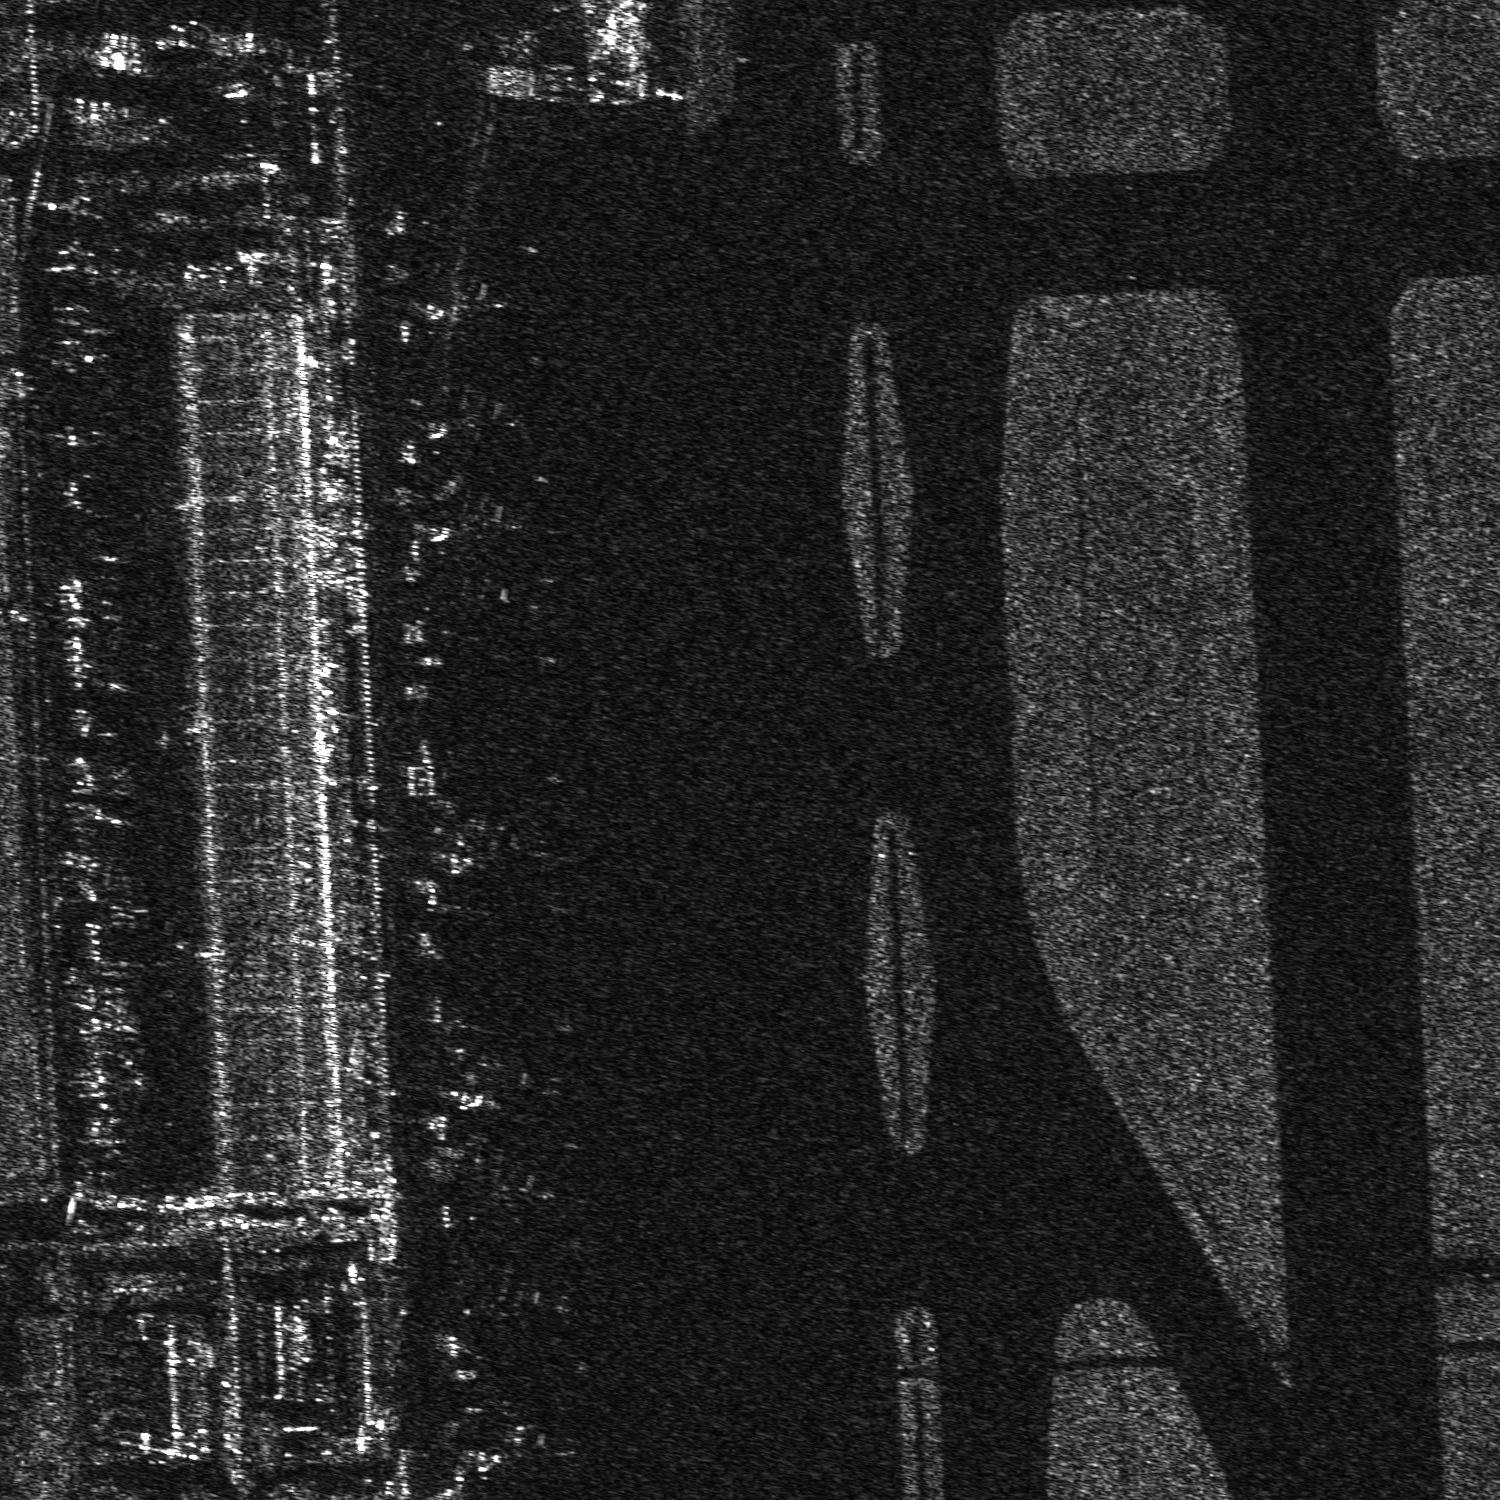A220: (457, 1420, 578, 1492)
A320/321: (452, 1257, 580, 1360), (407, 493, 529, 565), (422, 386, 523, 451)
Boeing737: (413, 276, 510, 349)
other: (473, 1165, 560, 1231)
